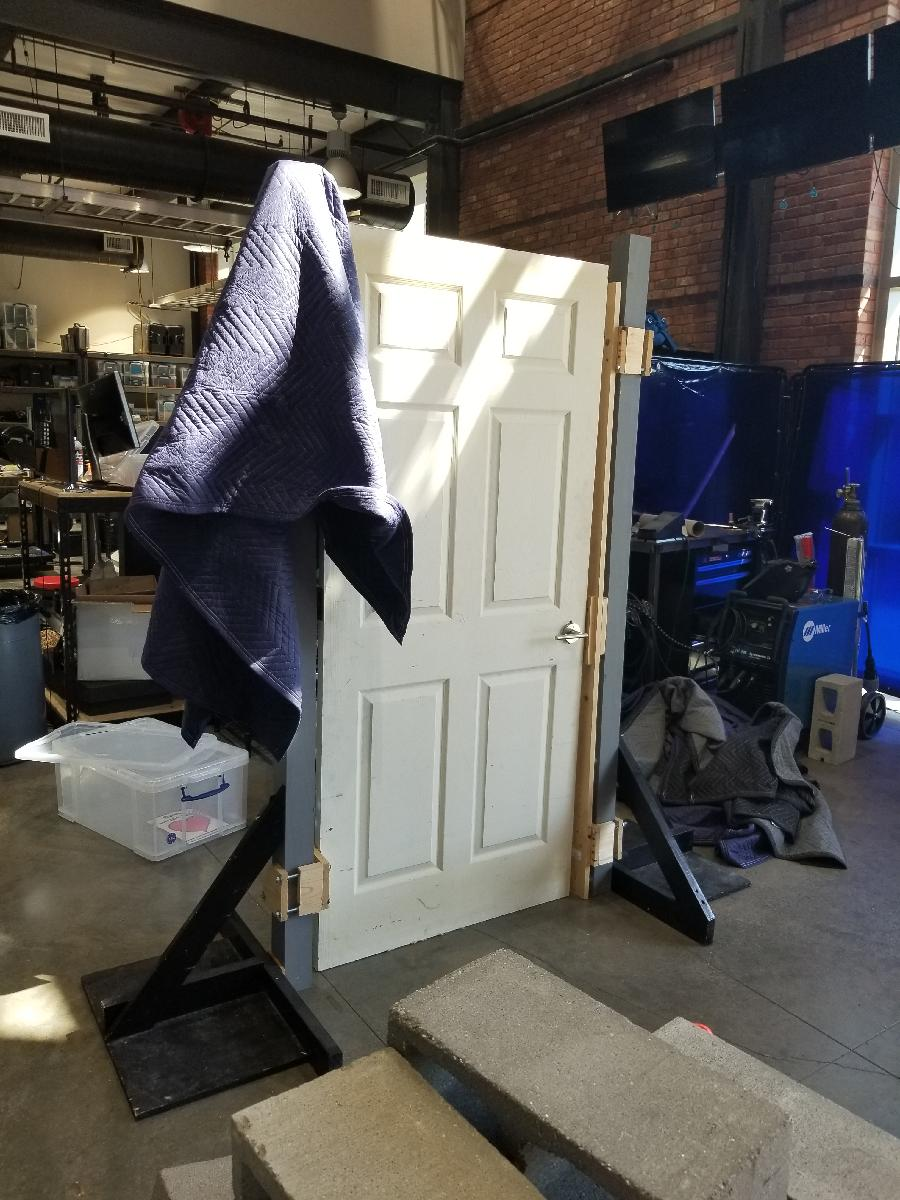door: (310, 214, 616, 988)
doorHandle: (543, 616, 590, 654)
